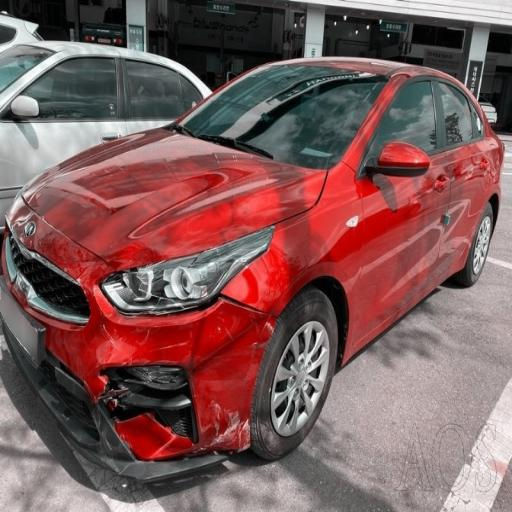broken: (78, 260, 208, 486)
scratch: (216, 356, 262, 479)
